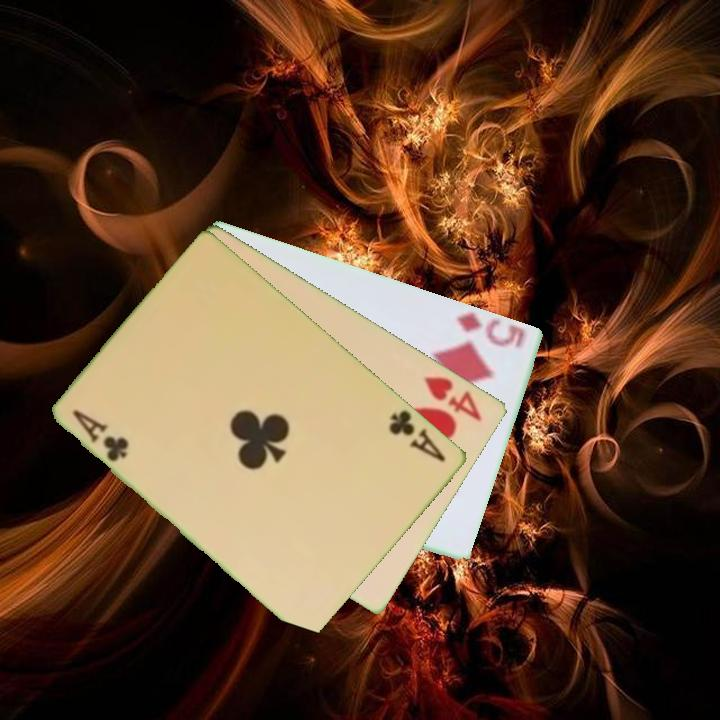4h: (421, 372, 486, 425)
5d: (454, 308, 528, 351)
Ac: (69, 405, 133, 465), (386, 406, 449, 465)
